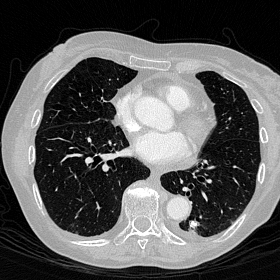nodule: (190, 221, 198, 229)
